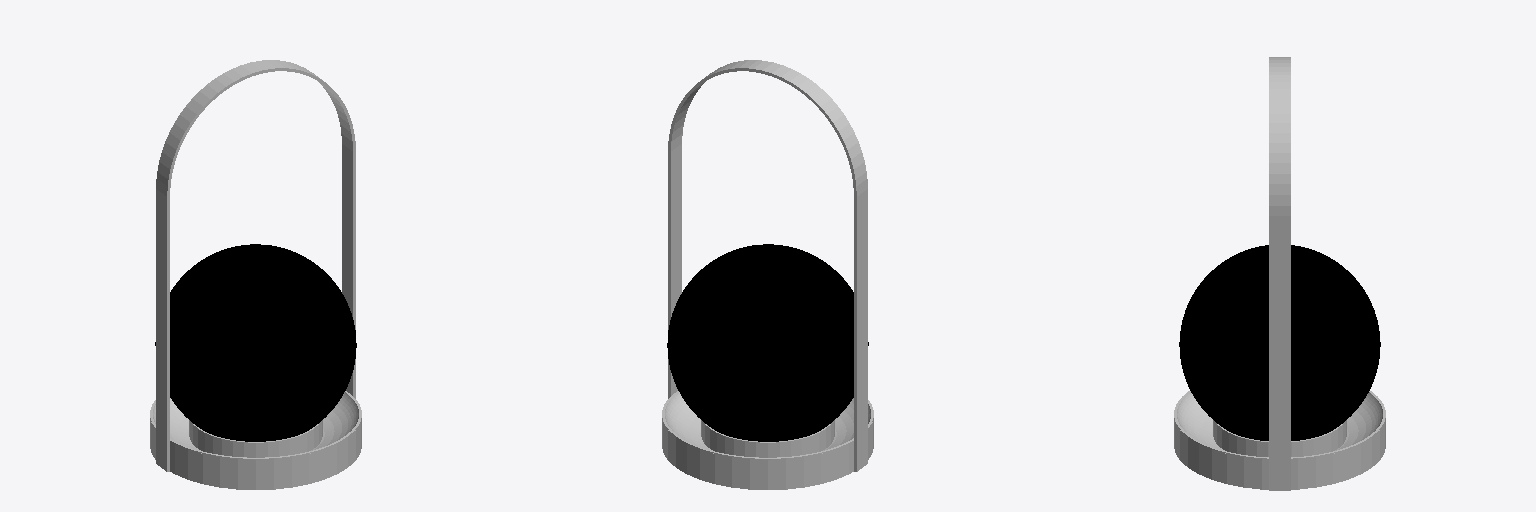
File: lampa.obj
3 renders of one model, left to right at view 1: azimuth 30°, elevation 25°; view 2: azimuth 150°, elevation 25°; view 3: azimuth 270°, elevation 25°, orthographic.
Parts seen in each view (by area): view 1: Cam, Tutamaç, Dış_Sıvama, İç_Sıvama, Cam_Arkası; view 2: Cam, Tutamaç, Dış_Sıvama, İç_Sıvama, Cam_Arkası; view 3: Cam, Tutamaç, Dış_Sıvama, İç_Sıvama, Cam_Arkası.
Part boxes in pixels (x1,y1,x2,y2): Cam: (155, 244, 356, 441); Tutamaç: (156, 60, 355, 471); Dış_Sıvama: (150, 419, 361, 489); İç_Sıvama: (150, 391, 361, 459); Cam_Arkası: (189, 420, 322, 457); Cam: (667, 244, 868, 441); Tutamaç: (668, 60, 867, 471); Dış_Sıvama: (662, 419, 873, 489); İç_Sıvama: (662, 391, 873, 459); Cam_Arkası: (701, 420, 834, 457); Cam: (1179, 245, 1380, 440); Tutamaç: (1269, 57, 1290, 490); Dış_Sıvama: (1174, 419, 1385, 489); İç_Sıvama: (1174, 391, 1385, 459); Cam_Arkası: (1213, 420, 1346, 456).
Size of the model in its own units: 0.1949 by 0.3739 by 0.19.